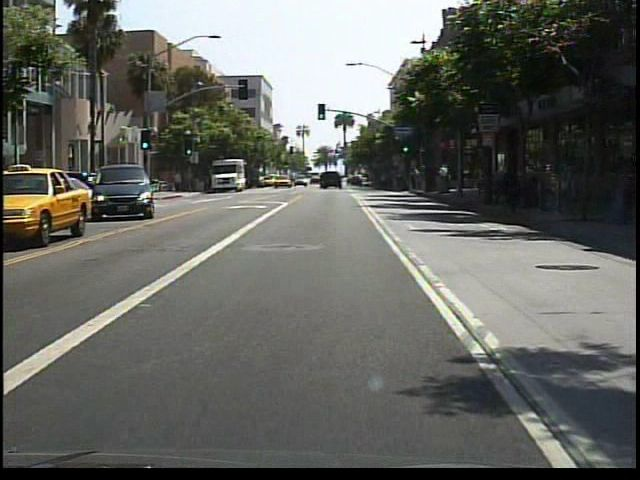person: (173, 167, 187, 193), (164, 170, 176, 193)
